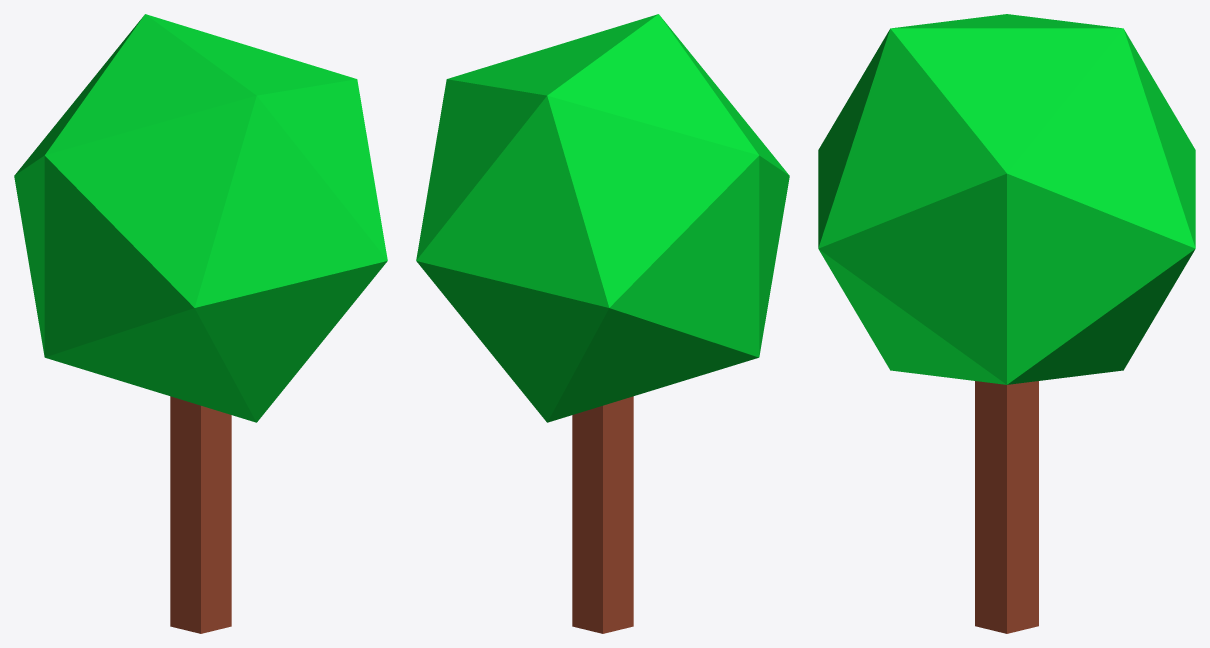
The model's file is tree.glb.
3 renders of one model, left to right at view 1: azimuth 30°, elevation 25°; view 2: azimuth 150°, elevation 25°; view 3: azimuth 270°, elevation 25°, orthographic. The views are drawn at different scales.
Parts seen in each view (by area): view 1: Crown, Trunk; view 2: Crown, Trunk; view 3: Crown, Trunk.
Part boxes in pixels (bbox=[...]): Crown: bbox=[14, 14, 387, 422]; Trunk: bbox=[170, 396, 231, 633]; Crown: bbox=[416, 14, 789, 422]; Trunk: bbox=[572, 396, 633, 633]; Crown: bbox=[818, 14, 1195, 384]; Trunk: bbox=[975, 381, 1038, 633].
Bounding box in the file's own units: 1.02 × 1.76 × 1.02.
